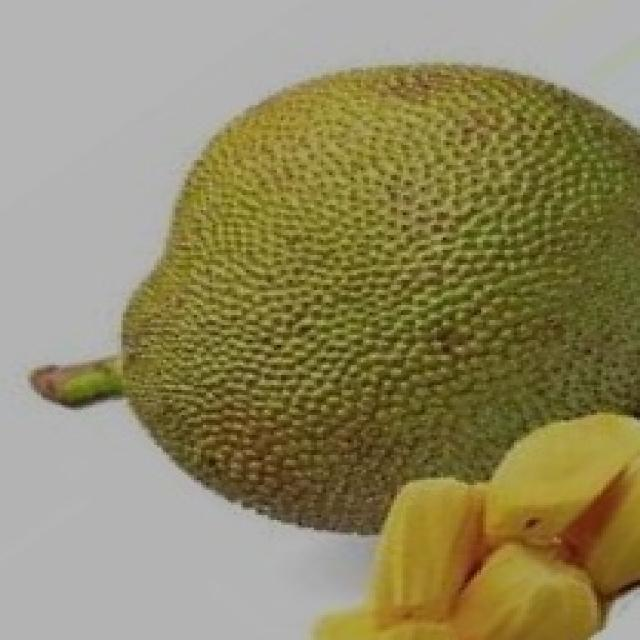Fruit: (258, 35, 640, 465)
